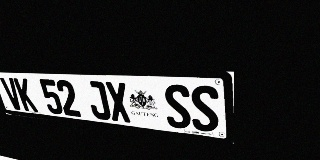2: (55, 80, 81, 117)
5: (39, 79, 65, 115)
J: (84, 81, 112, 121)
K: (13, 78, 38, 112)
S: (190, 85, 219, 133), (163, 84, 192, 130)
V: (0, 77, 24, 110)
X: (104, 82, 132, 123)
